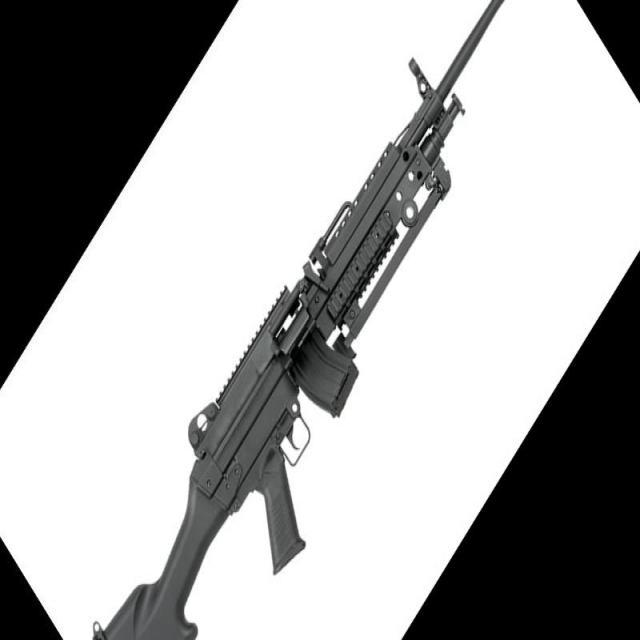weapon: (91, 0, 505, 640)
